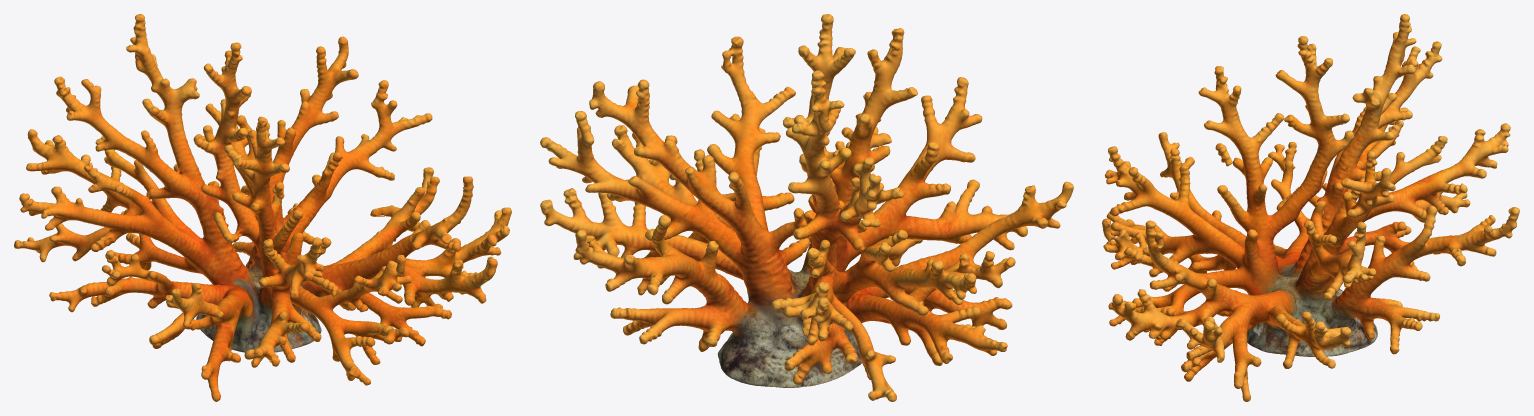
The model's file is staghorn_coral.glb.
3 renders of one model, left to right at view 1: azimuth 30°, elevation 25°; view 2: azimuth 150°, elevation 25°; view 3: azimuth 270°, elevation 25°, orthographic. The views are drawn at different scales.
Size of the model in its own units: 1.9 by 1.34 by 1.77.
1 material, 1 textured.
